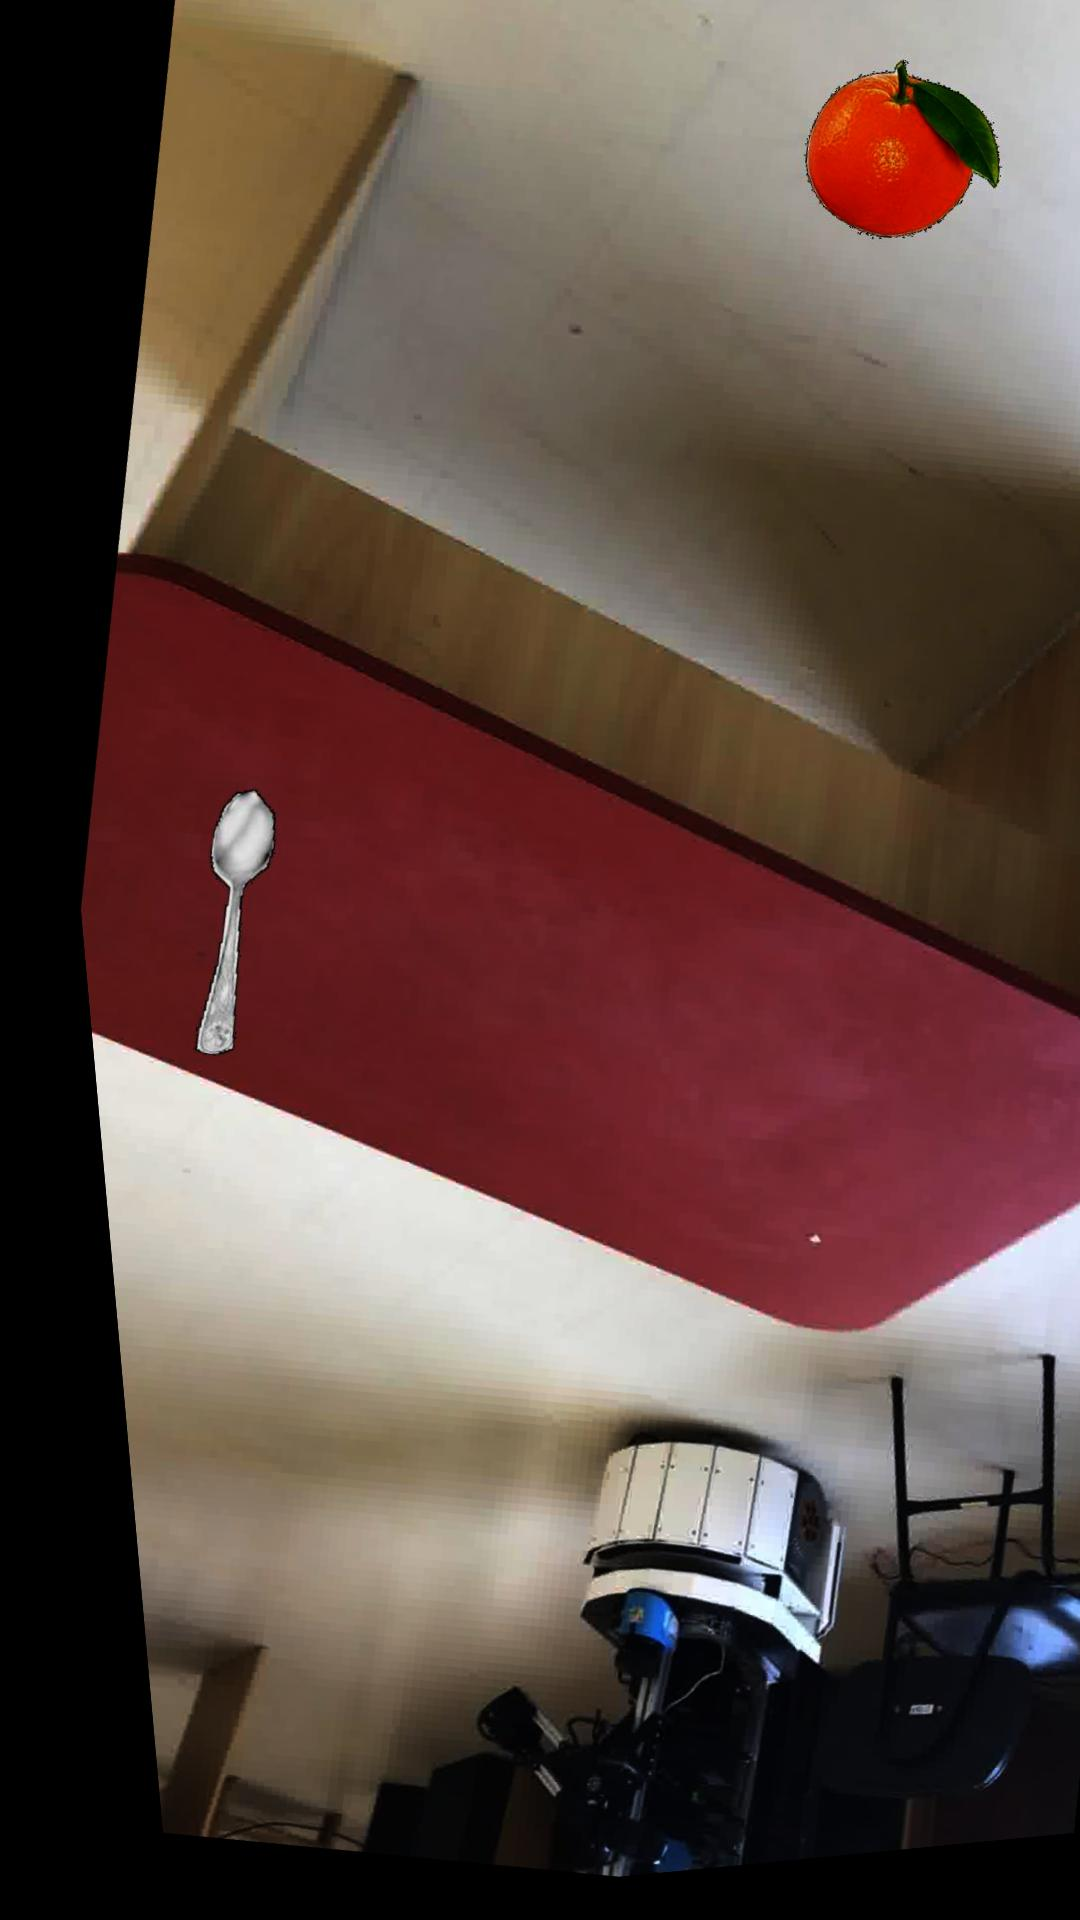orange: (802, 80, 996, 257)
spoon: (177, 795, 261, 1059)
